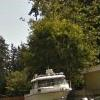Boat: (19, 67, 73, 100)
